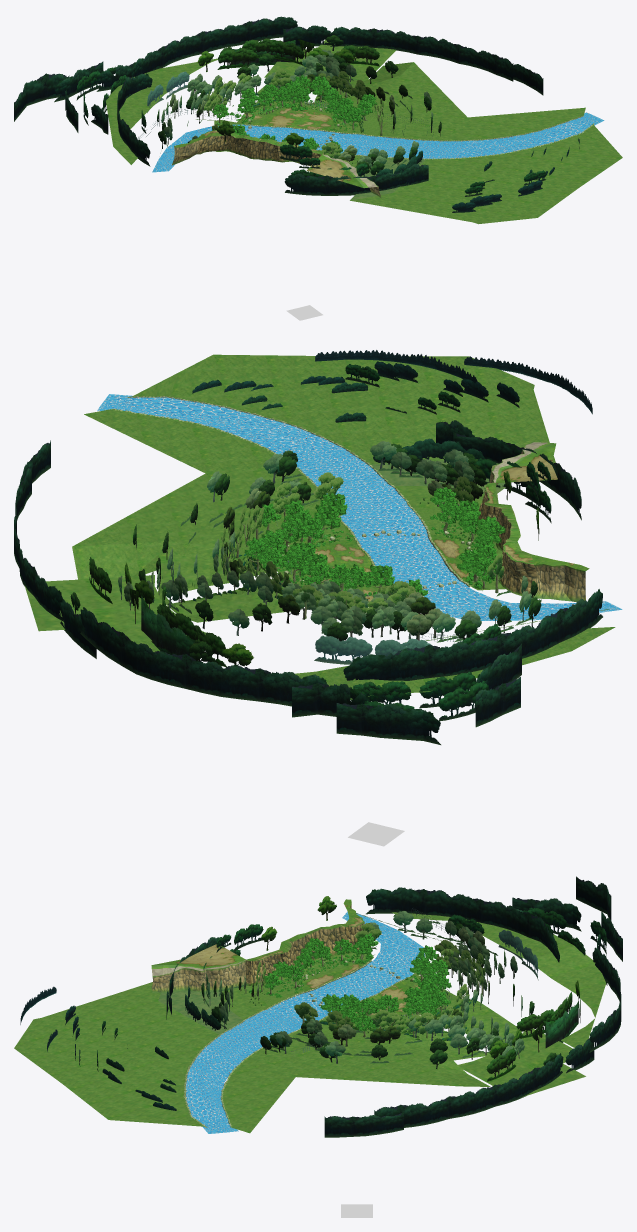
3 renders of one model, top to bottom at view 1: azimuth 30°, elevation 25°; view 2: azimuth 150°, elevation 25°; view 3: azimuth 270°, elevation 25°, orthographic. The views are drawn at different scales.
Parts seen in each view (by area): view 1: _344_sa01aflo008, _336_sa01abac001, Water, _349_sa01aobj019, _339_sa01aobj010_01, BackgroundTrees, Water_001, _346_sa01aobj004, _348_sa01aflo001_02, _356_sa01aflo002, _368_sa01aflo004_002, _365_sa01aobj001_03 (+3 smaller); view 2: _344_sa01aflo008, _336_sa01abac001, Water, _339_sa01aobj010_01, BackgroundTrees, _349_sa01aobj019, Water_001, _346_sa01aobj004, _348_sa01aflo001_02, _368_sa01aflo004_002, _356_sa01aflo002, _365_sa01aobj001_03 (+5 smaller); view 3: _344_sa01aflo008, _336_sa01abac001, Water, _349_sa01aobj019, _339_sa01aobj010_01, BackgroundTrees, Water_001, _346_sa01aobj004, _368_sa01aflo004_002, _348_sa01aflo001_02, _368_sa01aflo004_004_0368_sa01aflo004_041, _356_sa01aflo002 (+4 smaller).
Part boxes in pixels (left/top/right/bottom): _344_sa01aflo008: left=106, top=39, right=622, bottom=224; _336_sa01abac001: left=14, top=16, right=545, bottom=212; Water: left=152, top=112, right=604, bottom=172; _349_sa01aobj019: left=212, top=74, right=377, bottom=157; _339_sa01aobj010_01: left=161, top=49, right=433, bottom=167; BackgroundTrees: left=147, top=53, right=579, bottom=181; Water_001: left=153, top=112, right=601, bottom=171; _346_sa01aobj004: left=204, top=69, right=383, bottom=158; _348_sa01aflo001_02: left=197, top=130, right=323, bottom=165; _356_sa01aflo002: left=174, top=109, right=363, bottom=187; _368_sa01aflo004_002: left=172, top=140, right=381, bottom=197; _365_sa01aobj001_03: left=347, top=116, right=594, bottom=159; _344_sa01aflo008: left=24, top=354, right=615, bottom=699; _336_sa01abac001: left=14, top=350, right=602, bottom=744; Water: left=97, top=394, right=622, bottom=620; _339_sa01aobj010_01: left=118, top=441, right=531, bottom=642; BackgroundTrees: left=133, top=376, right=541, bottom=664; _349_sa01aobj019: left=244, top=487, right=505, bottom=597; Water_001: left=98, top=394, right=620, bottom=620; _346_sa01aobj004: left=221, top=472, right=504, bottom=619; _348_sa01aflo001_02: left=478, top=482, right=536, bottom=595; _368_sa01aflo004_002: left=489, top=442, right=585, bottom=602; _356_sa01aflo002: left=304, top=443, right=589, bottom=570; _365_sa01aobj001_03: left=111, top=395, right=426, bottom=528; _344_sa01aflo008: left=14, top=912, right=606, bottom=1133; _336_sa01abac001: left=20, top=876, right=622, bottom=1137; Water: left=186, top=911, right=424, bottom=1133; _349_sa01aobj019: left=249, top=933, right=451, bottom=1031; _339_sa01aobj010_01: left=207, top=911, right=524, bottom=1063; BackgroundTrees: left=102, top=910, right=538, bottom=1110; Water_001: left=186, top=912, right=421, bottom=1133; _346_sa01aobj004: left=256, top=923, right=485, bottom=1034; _368_sa01aflo004_002: left=151, top=904, right=351, bottom=992; _348_sa01aflo001_02: left=245, top=917, right=364, bottom=986; _368_sa01aflo004_004_0368_sa01aflo004_041: left=158, top=990, right=242, bottom=1034; _356_sa01aflo002: left=152, top=899, right=403, bottom=1016.
Bounding box in the file's own units: 310 × 154 × 322.
Materials: 43 (43 with a texture image).
